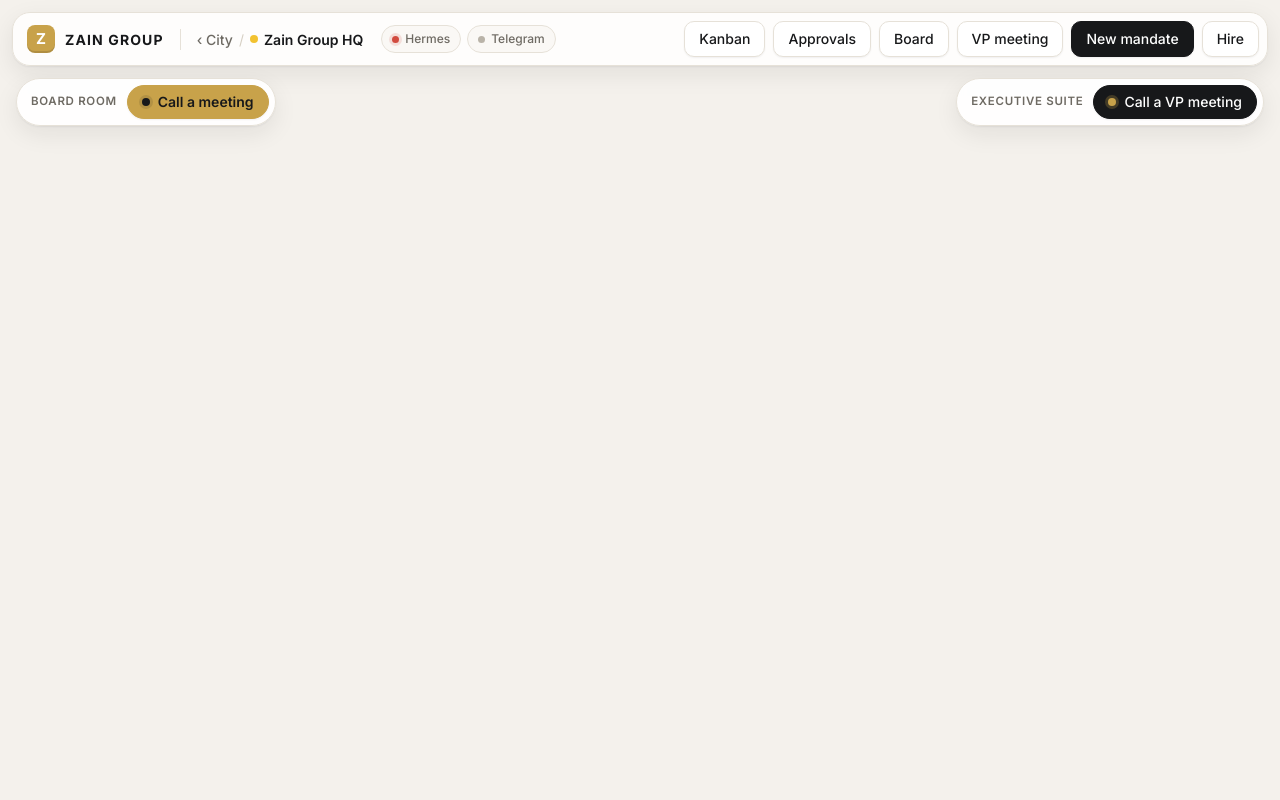
Scenario: Call a meeting › opens a labelled modal on the type choice, traps focus, and closes on Esc back to the CTA
Click the button "Call a meeting".
click(198, 102)  # box [127,85,269,119]
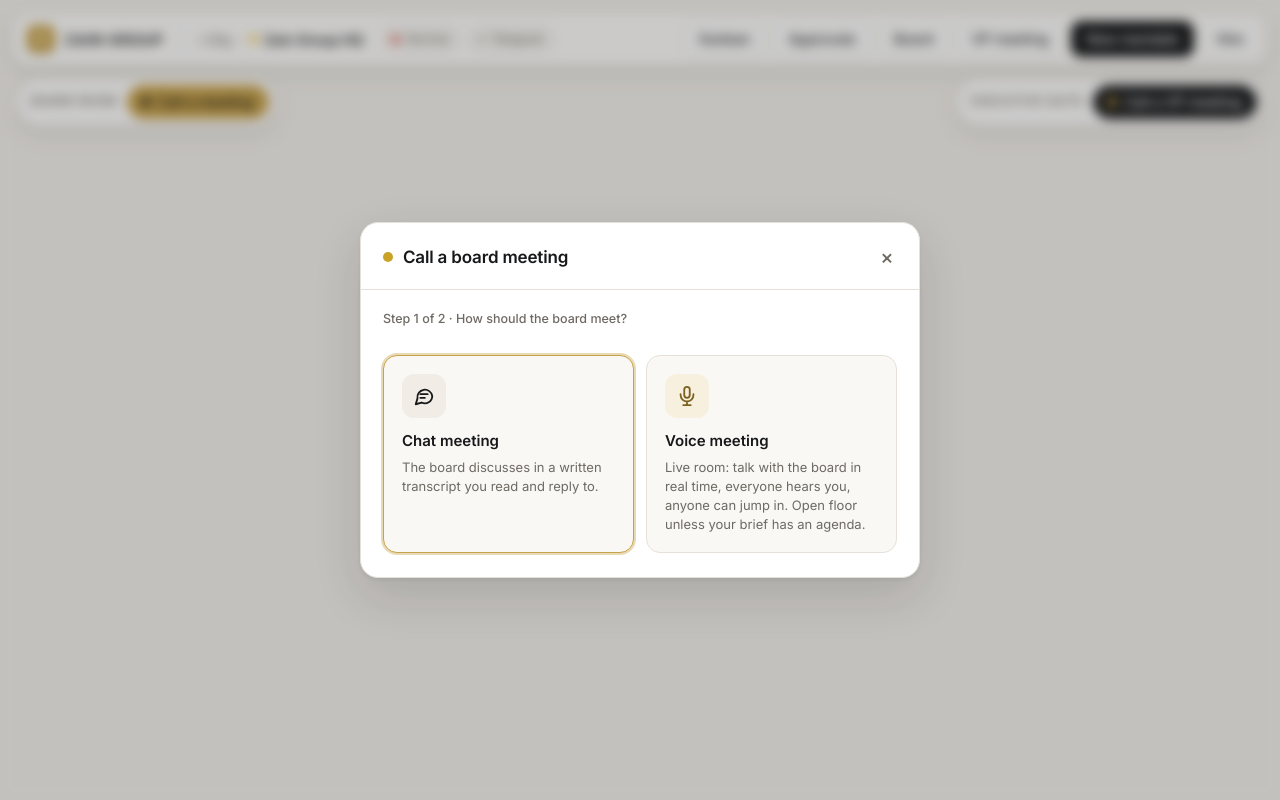
Press Tab
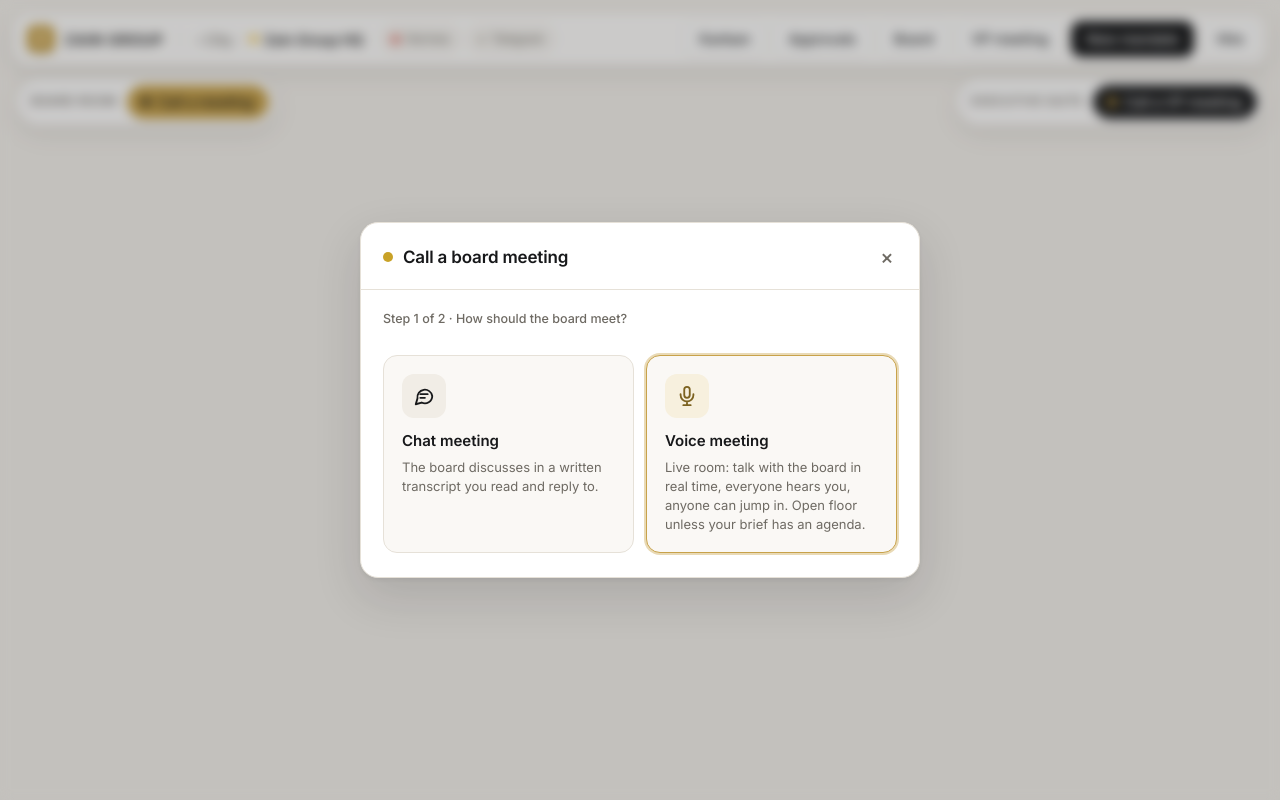
Press Tab
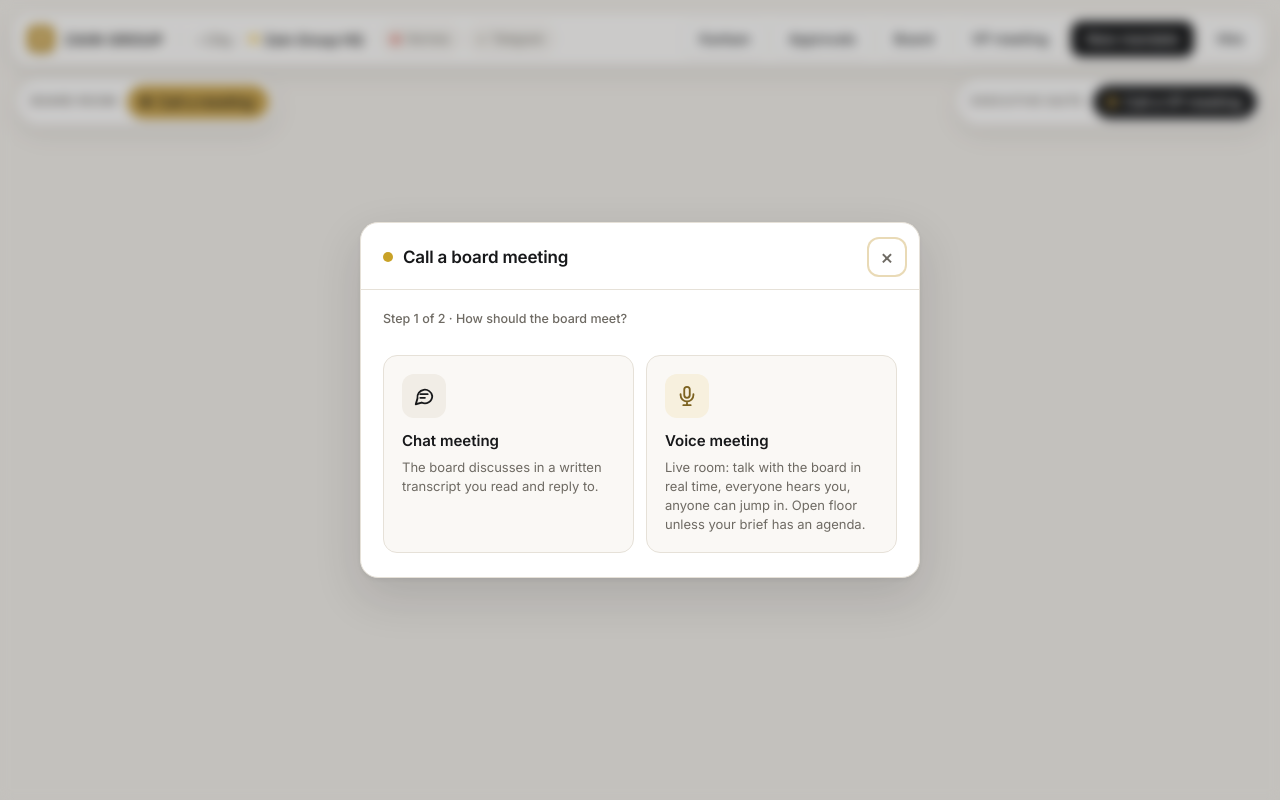
Press Shift+Tab
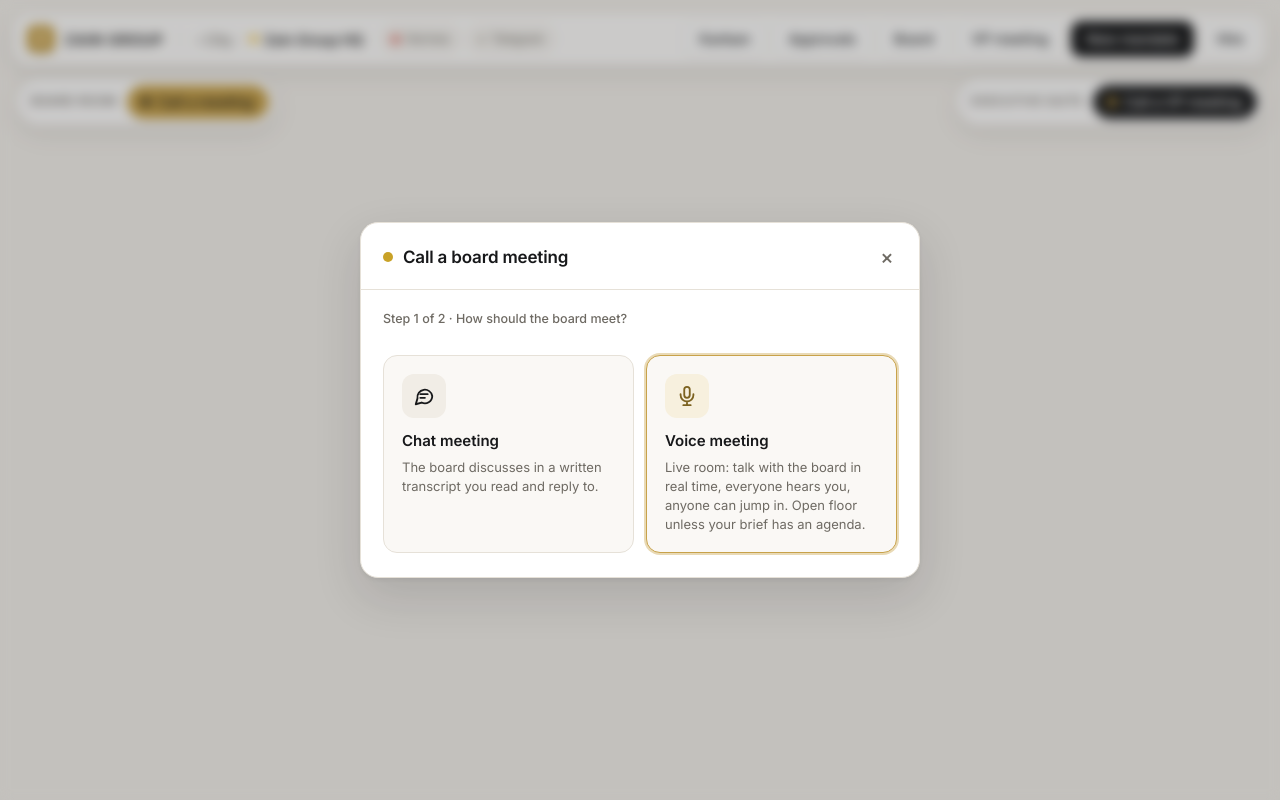
Press Escape
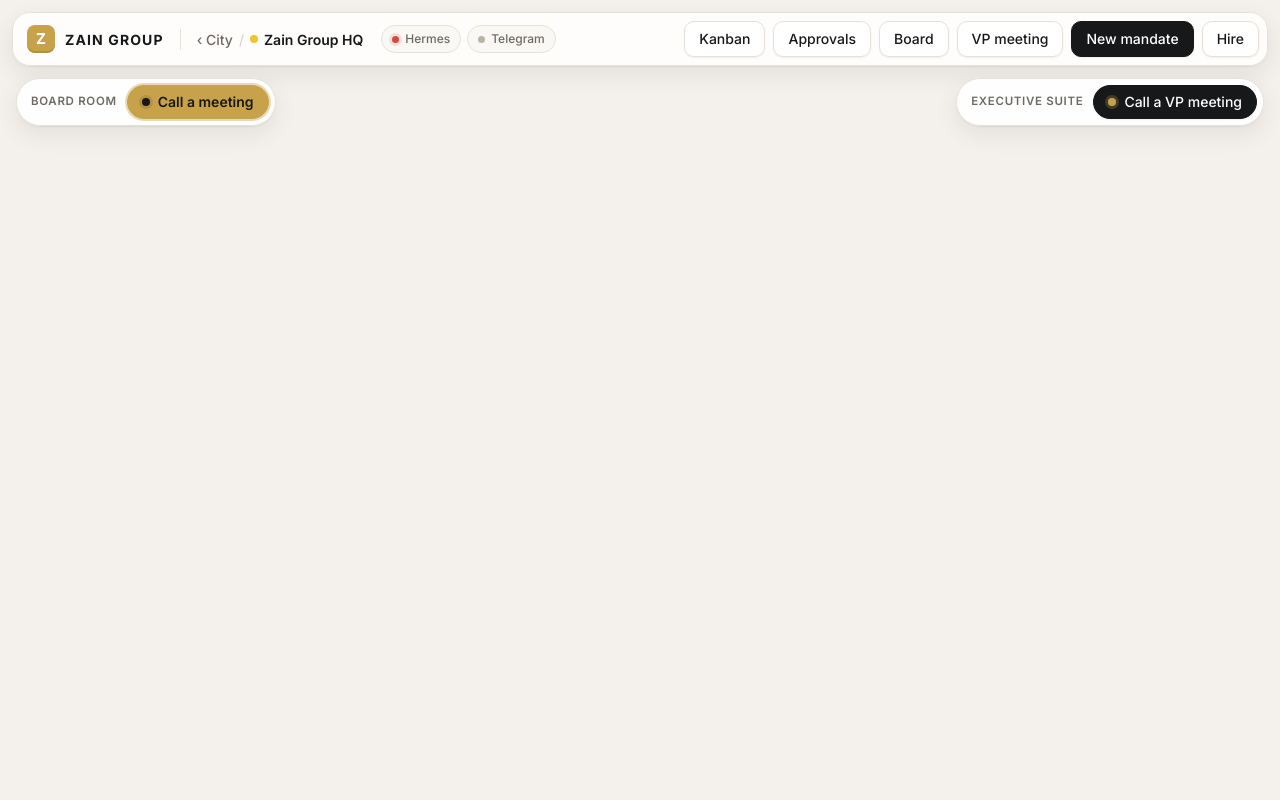
Now the dialog is gone
